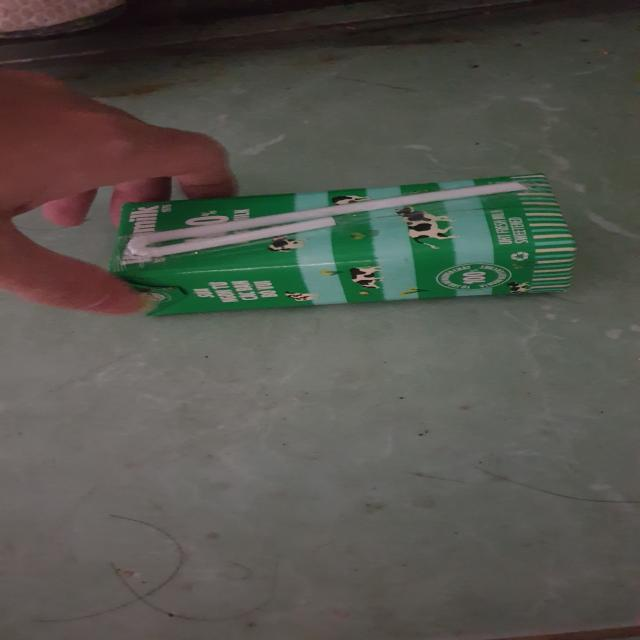Vina: (101, 172, 580, 321)
